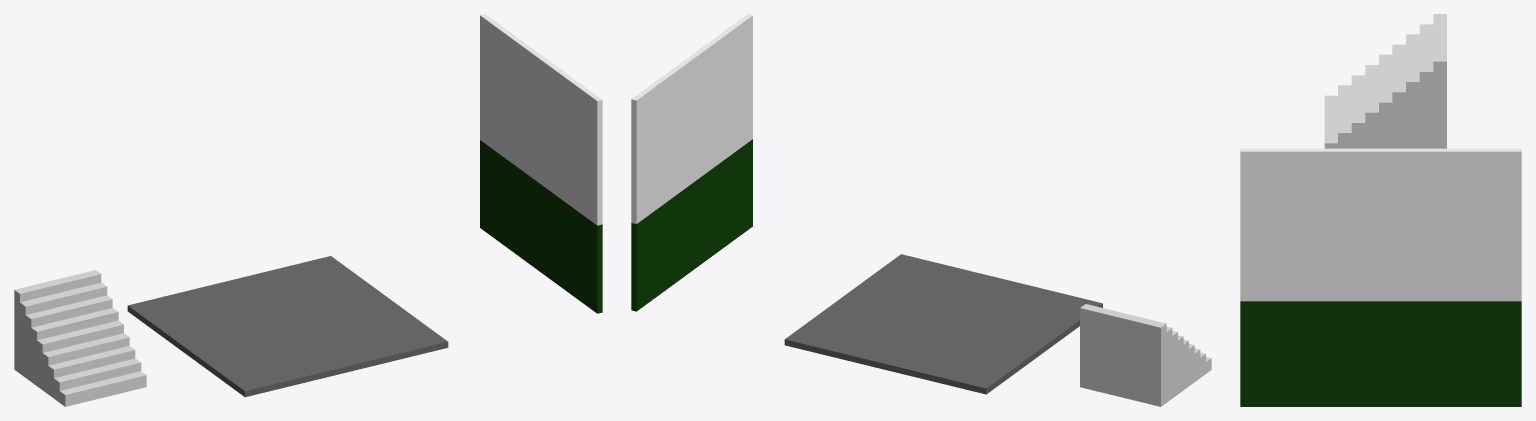
Rendered from Assets hospital_1.fbx.
3 renders of one model, left to right at view 1: azimuth 30°, elevation 25°; view 2: azimuth 150°, elevation 25°; view 3: azimuth 270°, elevation 25°, orthographic. The views are drawn at different scales.
Parts seen in each view (by area): view 1: Plane.001, Plane, Plane.003; view 2: Plane.001, Plane, Plane.003; view 3: Plane.001, Plane.003.
Boxes of the visible parts, box(x1,y1,x2,y2) form: Plane.001: box(480, 14, 602, 313); Plane: box(127, 256, 448, 397); Plane.003: box(14, 270, 146, 406); Plane.001: box(631, 14, 752, 311); Plane: box(784, 254, 1102, 394); Plane.003: box(1080, 304, 1211, 406); Plane.001: box(1240, 148, 1521, 406); Plane.003: box(1324, 14, 1446, 148).
Size of the model in its own units: 4394 by 1777 by 1777.
